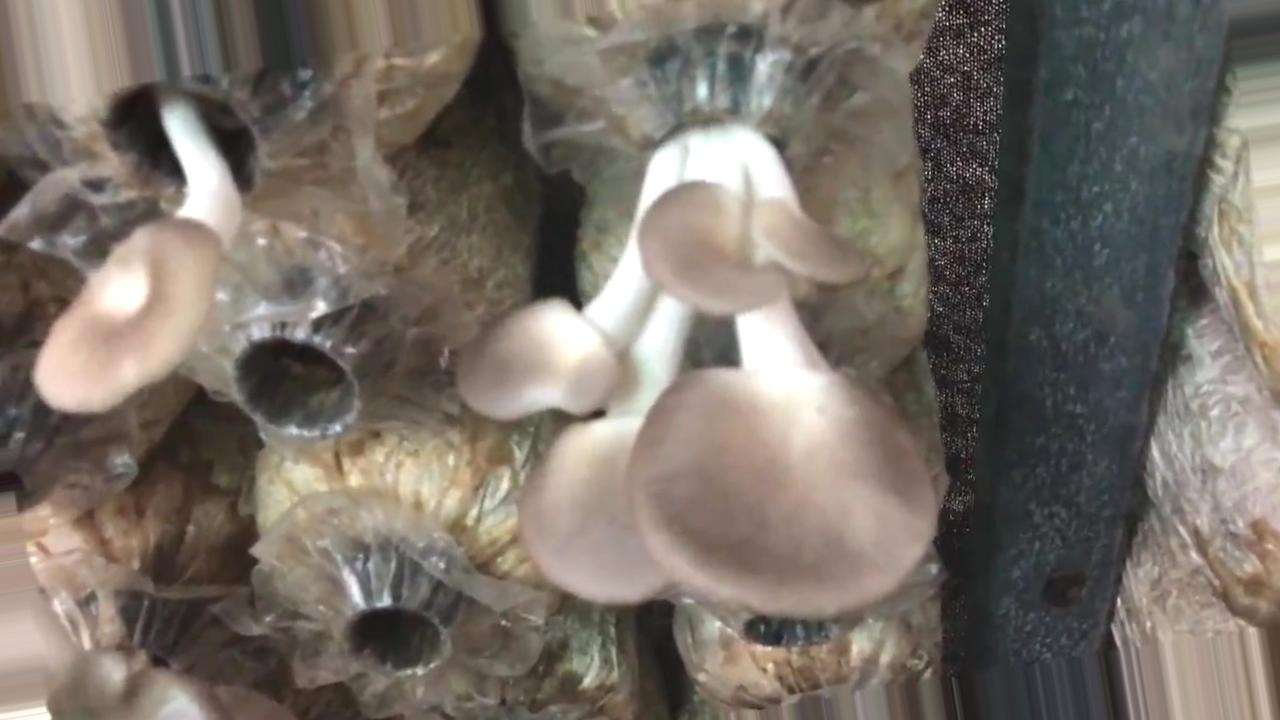nam: (456, 49, 934, 618), (35, 73, 261, 412)
